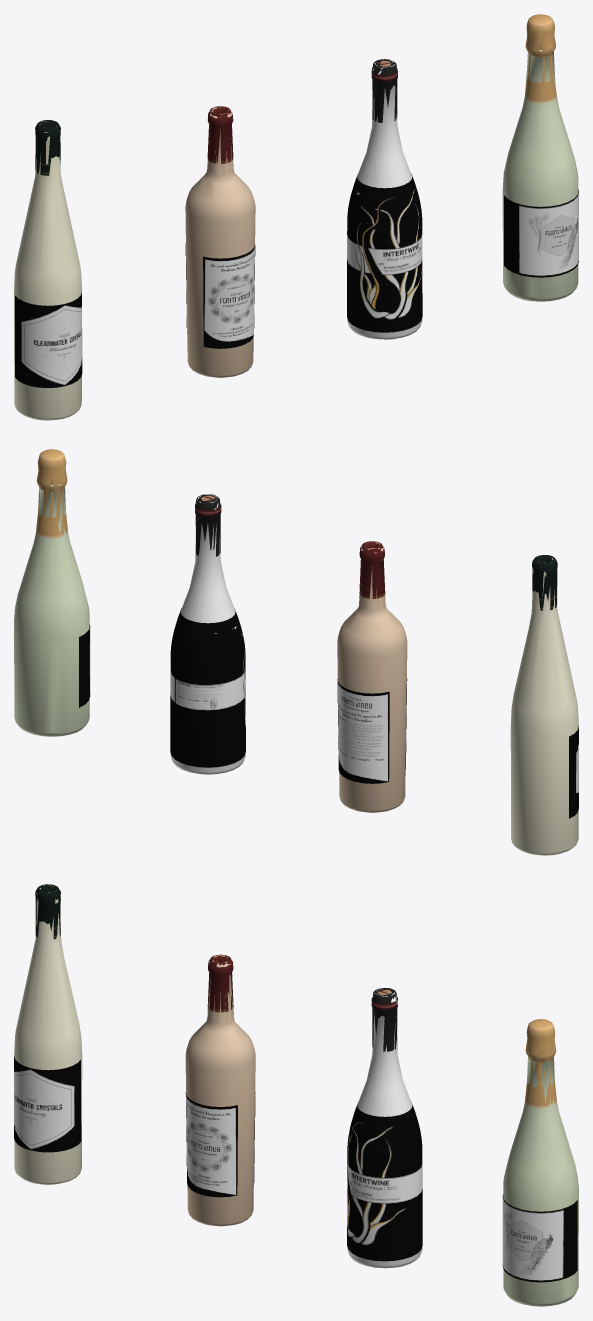
File: wine.glb
3 views of the same model, one above another, from view 1: azimuth 30°, elevation 25°; view 2: azimuth 150°, elevation 25°; view 3: azimuth 330°, elevation 25° (orthographic).
Parts seen in each view (by area): view 1: wine_bottles_01_bordeaux, wine_bottles_01_burgundy, wine_bottles_01_alsace, wine_bottles_01_champagne; view 2: wine_bottles_01_bordeaux, wine_bottles_01_burgundy, wine_bottles_01_champagne, wine_bottles_01_alsace; view 3: wine_bottles_01_bordeaux, wine_bottles_01_burgundy, wine_bottles_01_alsace, wine_bottles_01_champagne.
Boxes of the visible parts, left/top/right/bottom form: wine_bottles_01_bordeaux: left=14, top=14, right=578, bottom=420; wine_bottles_01_burgundy: left=347, top=173, right=422, bottom=332; wine_bottles_01_alsace: left=15, top=292, right=82, bottom=387; wine_bottles_01_champagne: left=504, top=189, right=578, bottom=277; wine_bottles_01_bordeaux: left=14, top=449, right=578, bottom=855; wine_bottles_01_burgundy: left=170, top=608, right=245, bottom=767; wine_bottles_01_champagne: left=79, top=624, right=90, bottom=707; wine_bottles_01_alsace: left=569, top=727, right=578, bottom=818; wine_bottles_01_bordeaux: left=14, top=884, right=578, bottom=1306; wine_bottles_01_burgundy: left=347, top=1102, right=422, bottom=1261; wine_bottles_01_alsace: left=14, top=1056, right=81, bottom=1152; wine_bottles_01_champagne: left=502, top=1194, right=577, bottom=1282.
Size of the model in its own units: 0.6763 by 0.3314 by 0.0805.
Materials: 9 (6 with a texture image).
